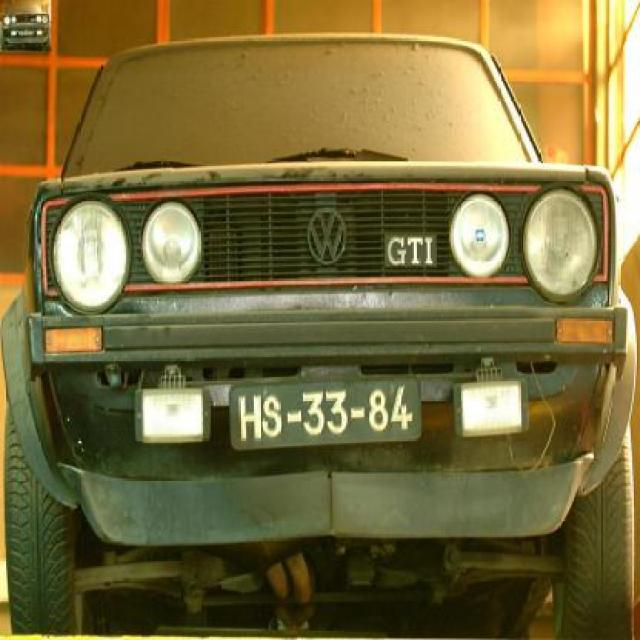License-Plates: (230, 377, 420, 449)
